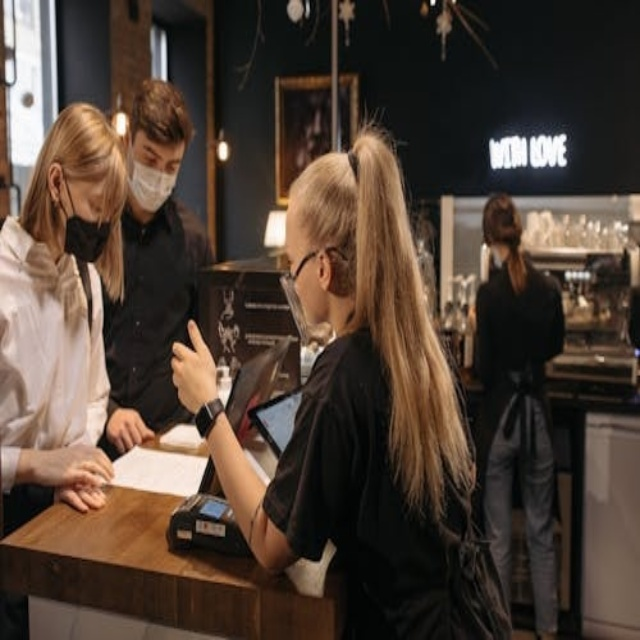Mascara: (275, 261, 330, 341), (129, 155, 180, 224), (61, 205, 116, 264)
Sin_gafas: (138, 142, 186, 174), (77, 182, 116, 218), (274, 232, 303, 278)
Sin_guantes: (169, 319, 221, 416), (39, 445, 117, 509), (104, 406, 153, 452)
